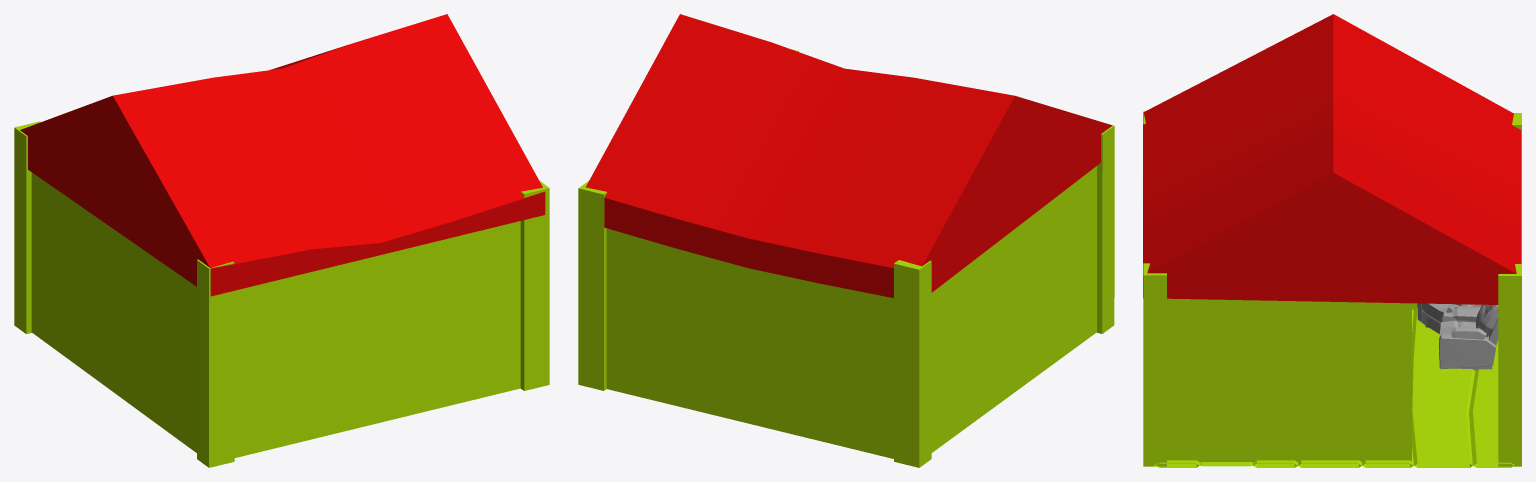
Rendered from nana_interior.fbx.
3 views of the same model, side by side, from view 1: azimuth 30°, elevation 25°; view 2: azimuth 150°, elevation 25°; view 3: azimuth 270°, elevation 25° (orthographic). The views are drawn at different scales.
Visible parts, largest first — view 1: house, ceiling; view 2: ceiling, house; view 3: ceiling, house, recliner.
Part boxes in pixels (x1,y1,x2,y2): house: (14,121,549,467); ceiling: (20,14,545,296); ceiling: (585,14,1112,298); house: (578,49,1114,467); ceiling: (1143,14,1520,304); house: (1143,111,1521,467); recliner: (1417,303,1498,370).
Size of the model in its own units: 96.9 by 81.49 by 95.41.
